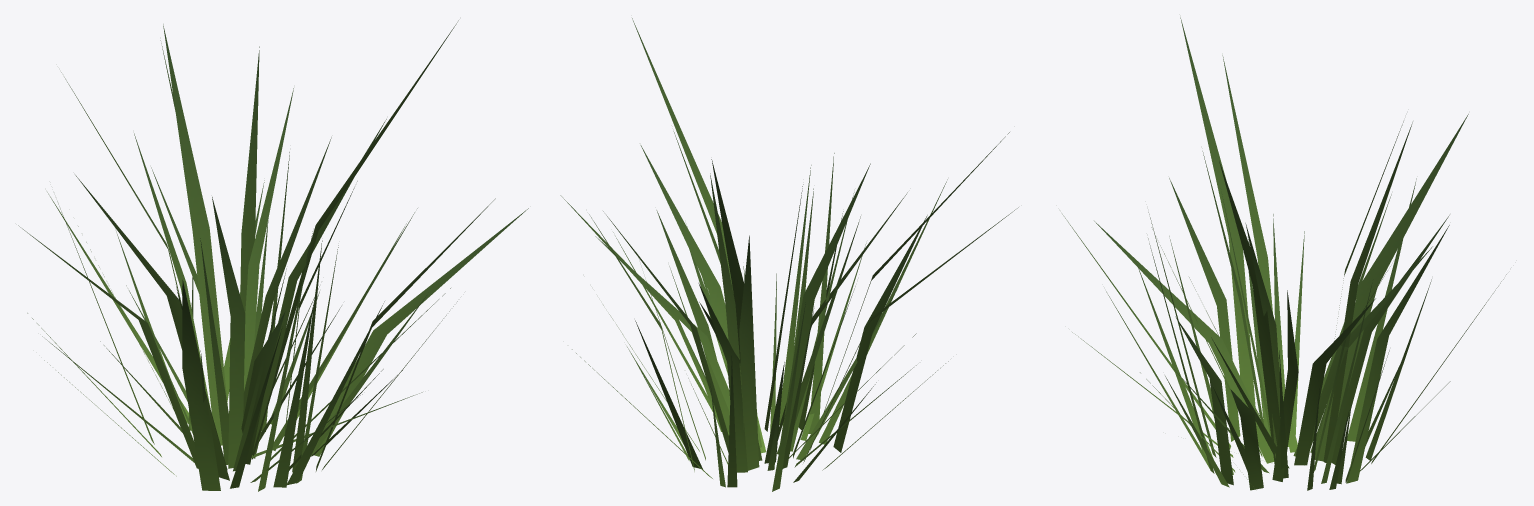
File: forest_grass_001_a_LOD1.gltf
3 views of the same model, side by side, from view 1: azimuth 30°, elevation 25°; view 2: azimuth 150°, elevation 25°; view 3: azimuth 270°, elevation 25° (orthographic). The views are drawn at different scales.
Parts seen in each view (by area): view 1: forest_grass_001_a_LOD1; view 2: forest_grass_001_a_LOD1; view 3: forest_grass_001_a_LOD1.
Part boxes in pixels (<box>): forest_grass_001_a_LOD1: <box>18,20,528,491</box>; forest_grass_001_a_LOD1: <box>560,18,1018,491</box>; forest_grass_001_a_LOD1: <box>1062,17,1506,490</box>.
Bounding box in the file's own units: 0.9974 × 0.7772 × 0.8449.
Materials: 1 (1 with a texture image).
